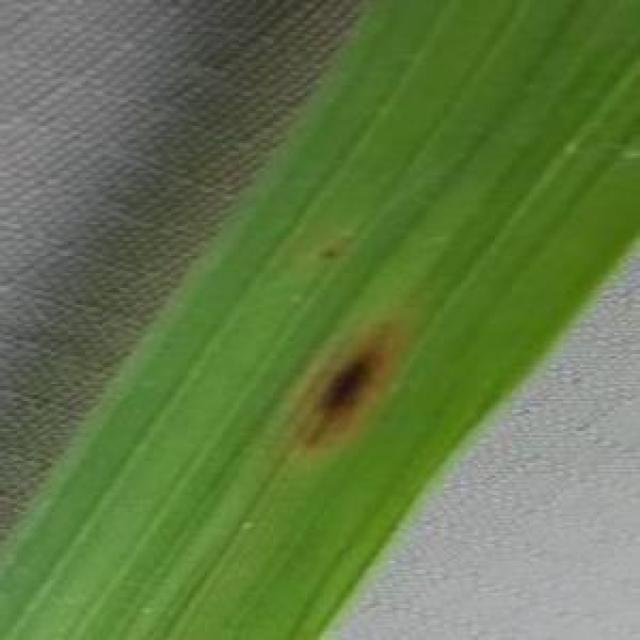Brown_Spot: (280, 308, 414, 466)
